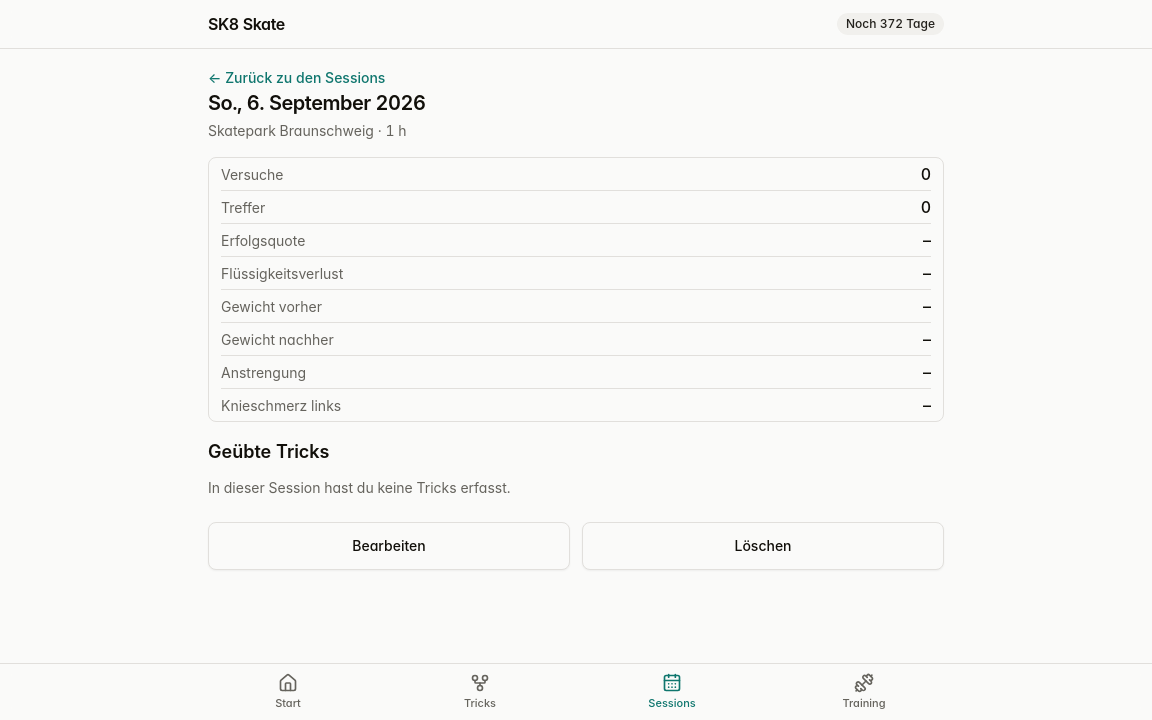
Test: DeleteSessionDialog › Kriterium 11: a 500 on delete keeps the dialog open with role=alert, and it can be retried
The image size is (1152, 720).
Click the button "Löschen".
click(763, 546)  # box [582,522,944,570]
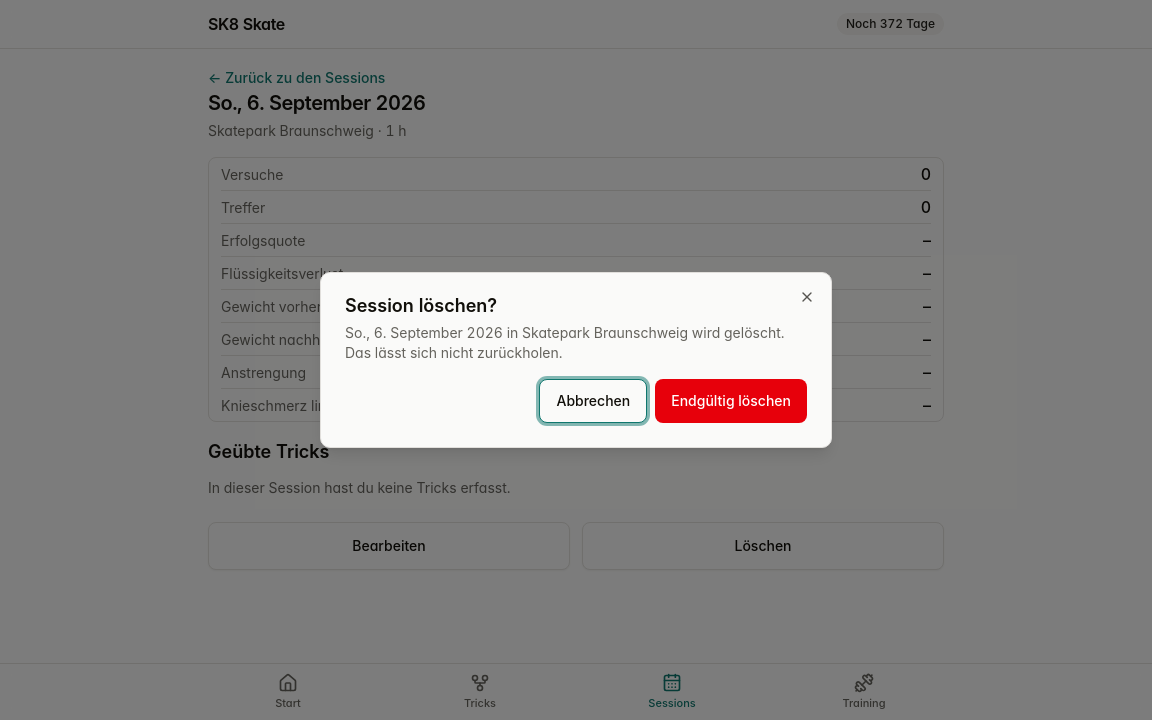
Expected: the dialog "Session löschen?" is shown, [320,272,832,448]
Click the button "Endgültig löschen".
click(731, 401)  # box [655,379,807,423]
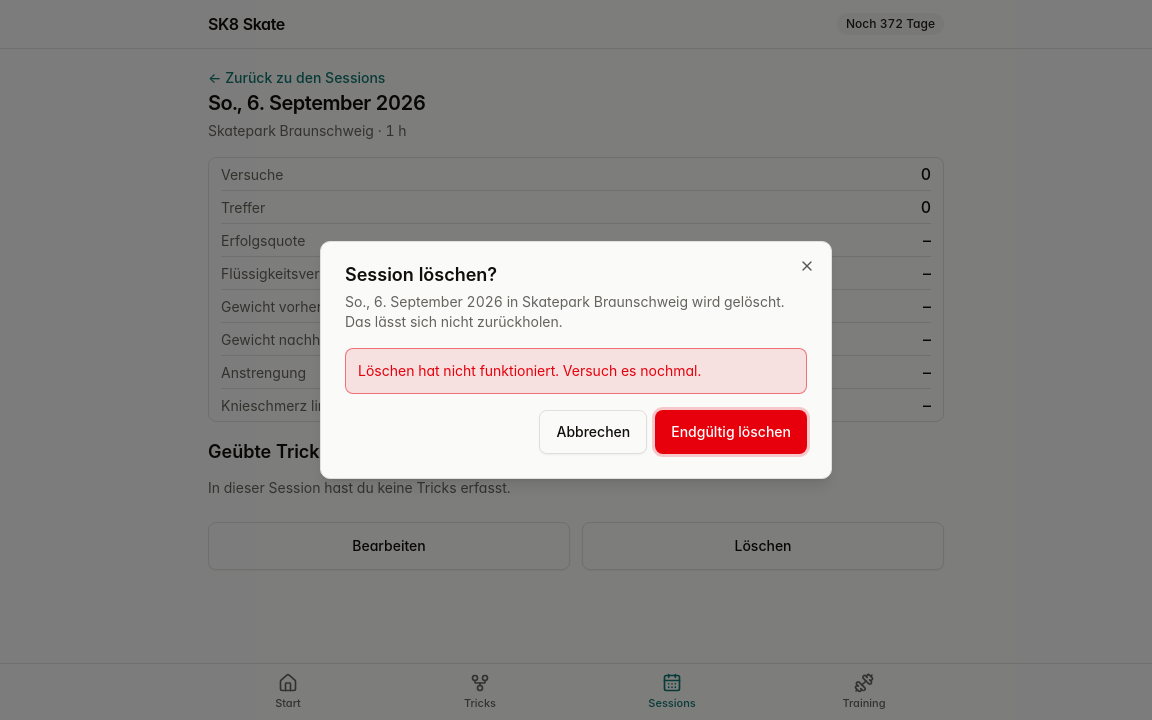
Expected: the dialog "Session löschen?" is shown, [320,241,832,479]
Expected: the message reads "Löschen hat nicht funktioniert. Versuch es nochmal.", [358,362,701,379]
